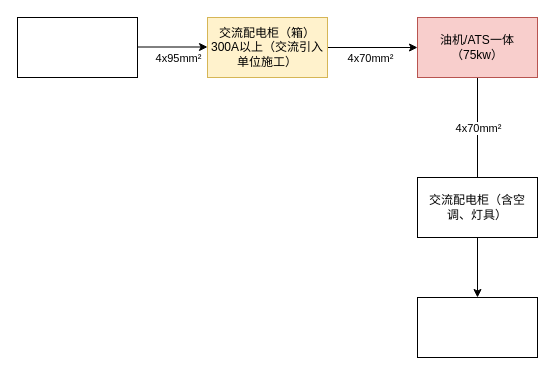
Image size: 555x375. Some labels were removed from this diagram. Each missing label, with the box of its shape:
变压器 200kva（300A）: (16, 16, 138, 78)
开关电源: (416, 296, 538, 358)
